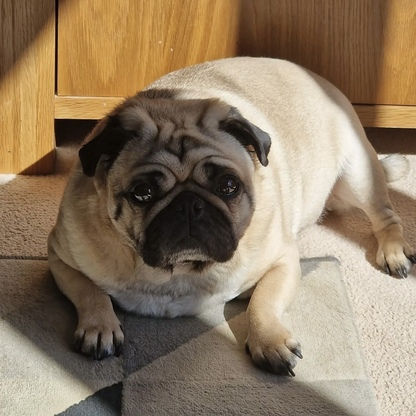Pug: (43, 48, 416, 382)
